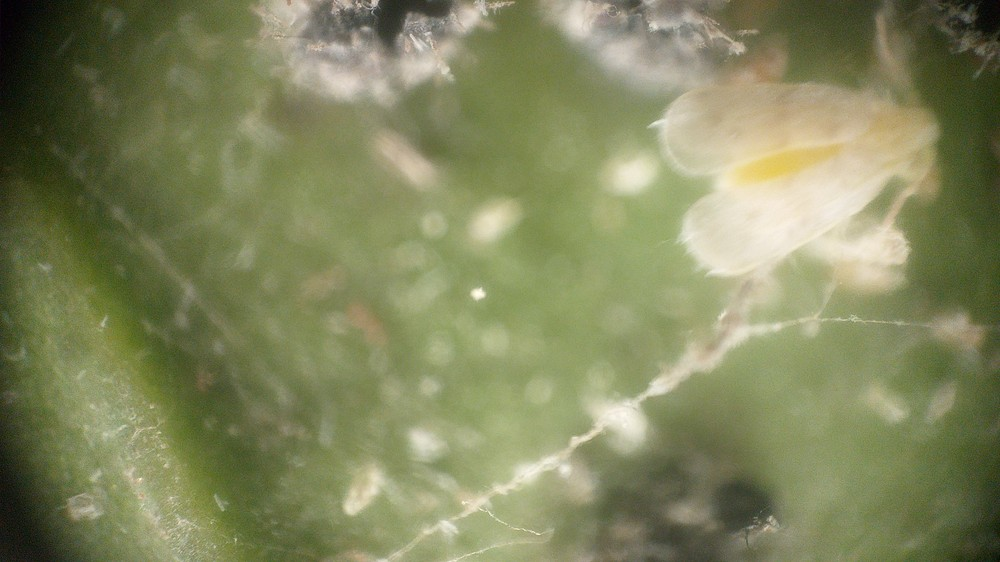Mosca Blanca: (658, 25, 955, 292)
